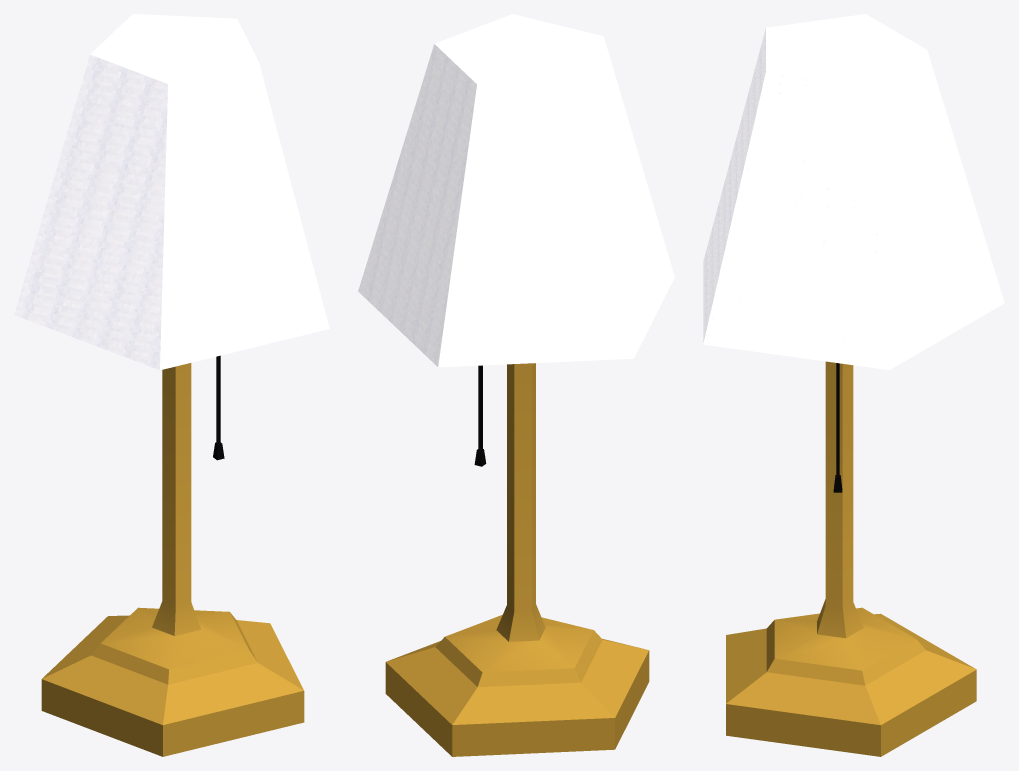
The model's file is lamp.glb.
The picture shows the model from 3 angles, left to right: view 1: azimuth 30°, elevation 25°; view 2: azimuth 150°, elevation 25°; view 3: azimuth 270°, elevation 25°; orthographic projection.
Parts seen in each view (by area): view 1: Shade, Lamp, cord; view 2: Shade, Lamp, cord; view 3: Shade, Lamp, cord.
Boxes of the visible parts, x1,y1,x2,y2 form: Shade: (14, 14, 329, 370); Lamp: (41, 363, 304, 756); cord: (213, 355, 224, 460); Shade: (358, 14, 674, 367); Lamp: (385, 363, 649, 756); cord: (474, 365, 486, 466); Shade: (703, 14, 1004, 370); Lamp: (726, 361, 976, 756); cord: (833, 363, 842, 492).
Bounding box in the file's own units: 0.0343 × 0.0777 × 0.0326.
3 materials, 2 textured.
